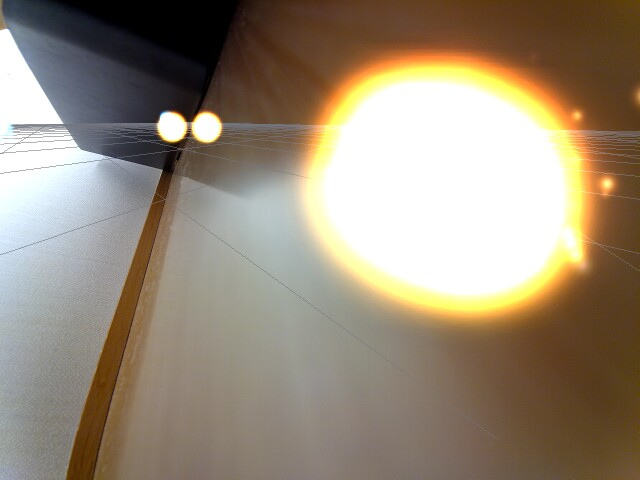firebig: (292, 53, 612, 324)
